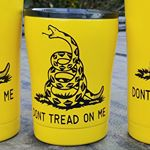cups: (22, 6, 123, 147)
